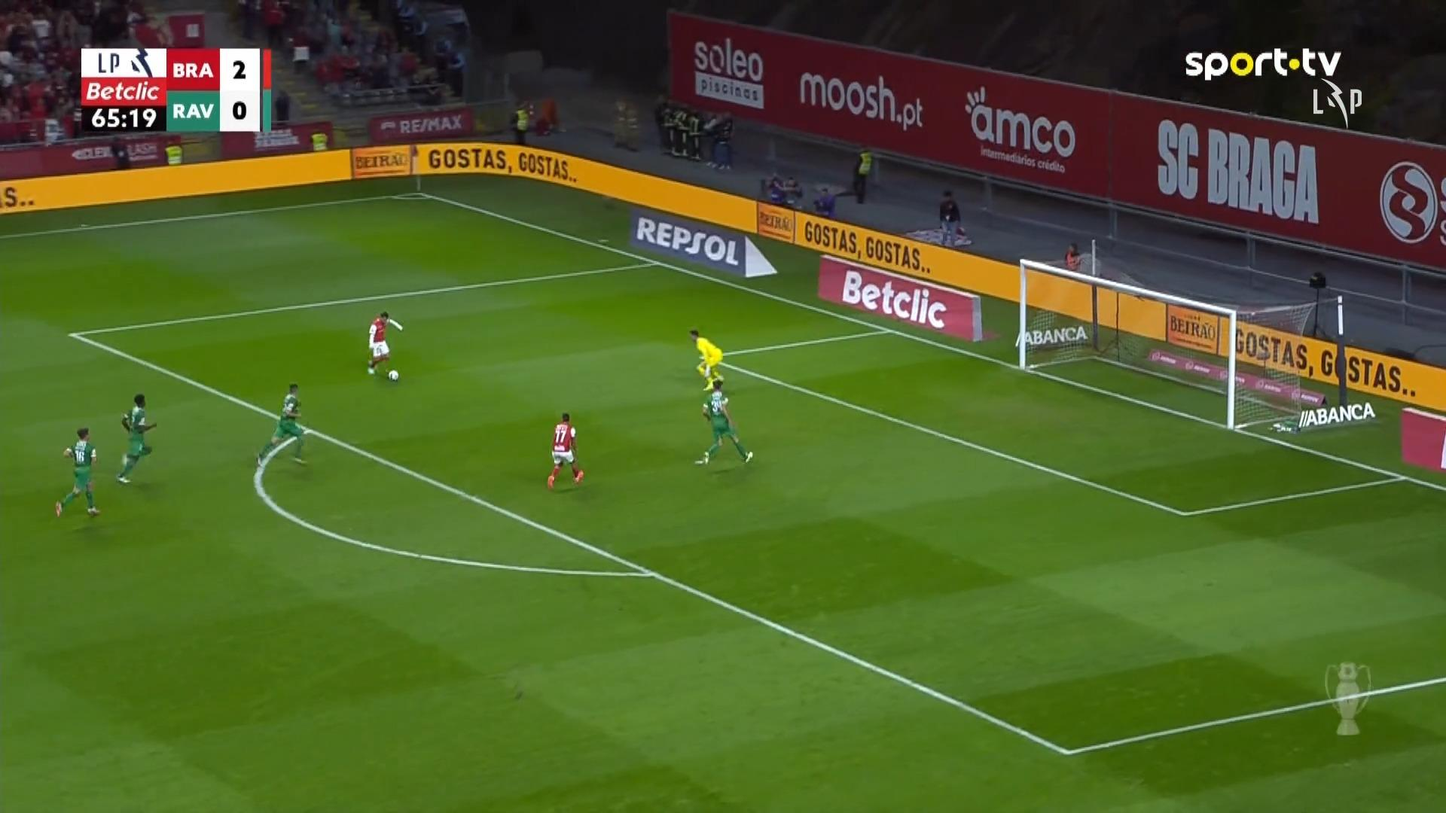ball: (387, 369, 398, 381)
goalkeeper: (688, 327, 724, 391)
player: (694, 376, 754, 466), (255, 382, 308, 468), (53, 426, 101, 517), (114, 392, 157, 483), (545, 411, 584, 490), (365, 310, 403, 376)
